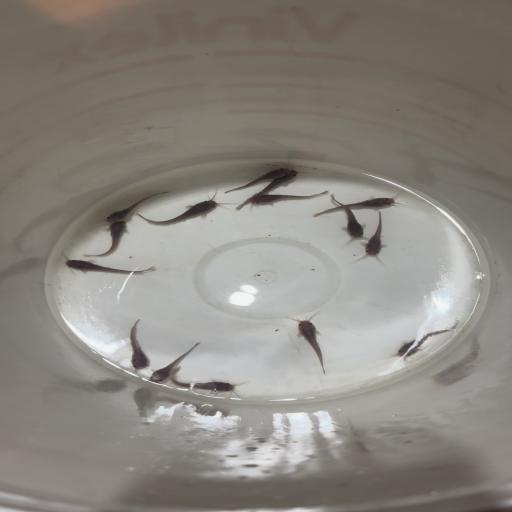lele: (386, 316, 463, 361), (286, 311, 334, 375), (134, 192, 224, 226), (236, 168, 298, 213), (144, 342, 204, 387), (350, 211, 398, 266), (56, 253, 158, 277), (170, 367, 248, 398), (307, 193, 403, 218), (105, 190, 170, 224), (76, 224, 134, 260), (243, 187, 329, 211), (120, 315, 154, 374), (326, 193, 366, 241), (222, 166, 290, 194)
